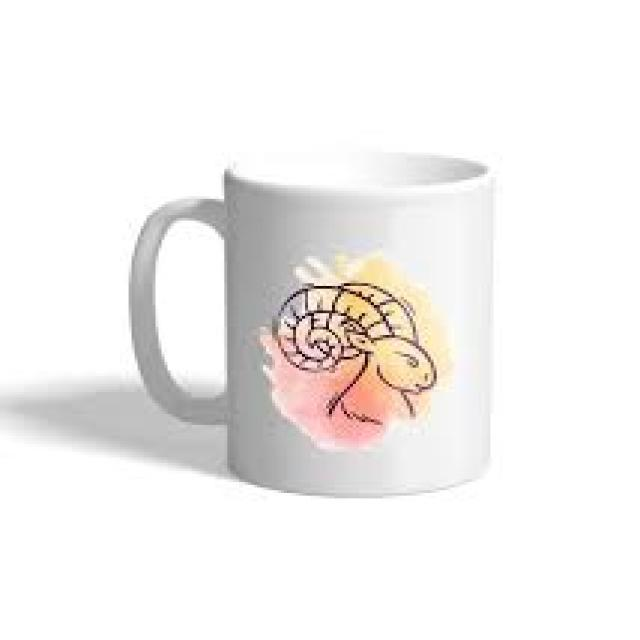taza: (127, 146, 498, 499)
